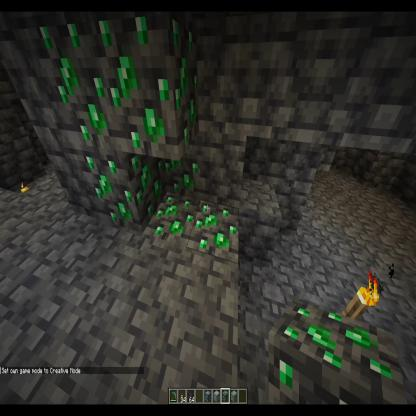emerald ore: (269, 298, 406, 412), (96, 15, 201, 158), (36, 19, 124, 153), (85, 152, 163, 234), (186, 195, 244, 267), (143, 194, 197, 250), (165, 155, 202, 195)
